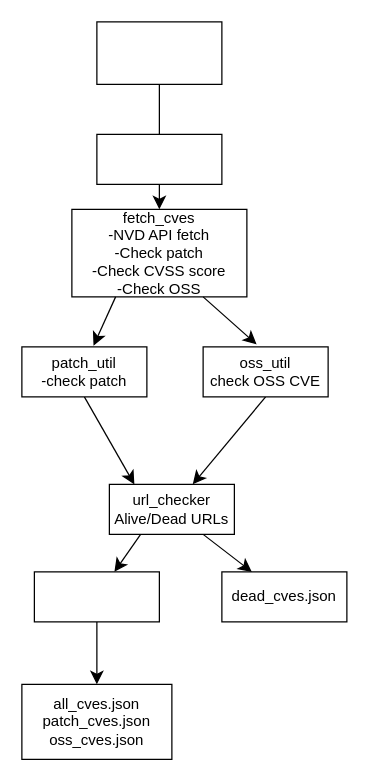
Image size: 369x781. Some labels were removed from this diagram. Here are the shapes that lost their labels. From the top down, the centre of each, then its label:
At pixel 159 52: "User Input -Data Range -API Key (opt)".
At pixel 159 158: "main.py".
At pixel 96 596: "alive_cves.json".
